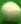white: (0, 0, 21, 24)
